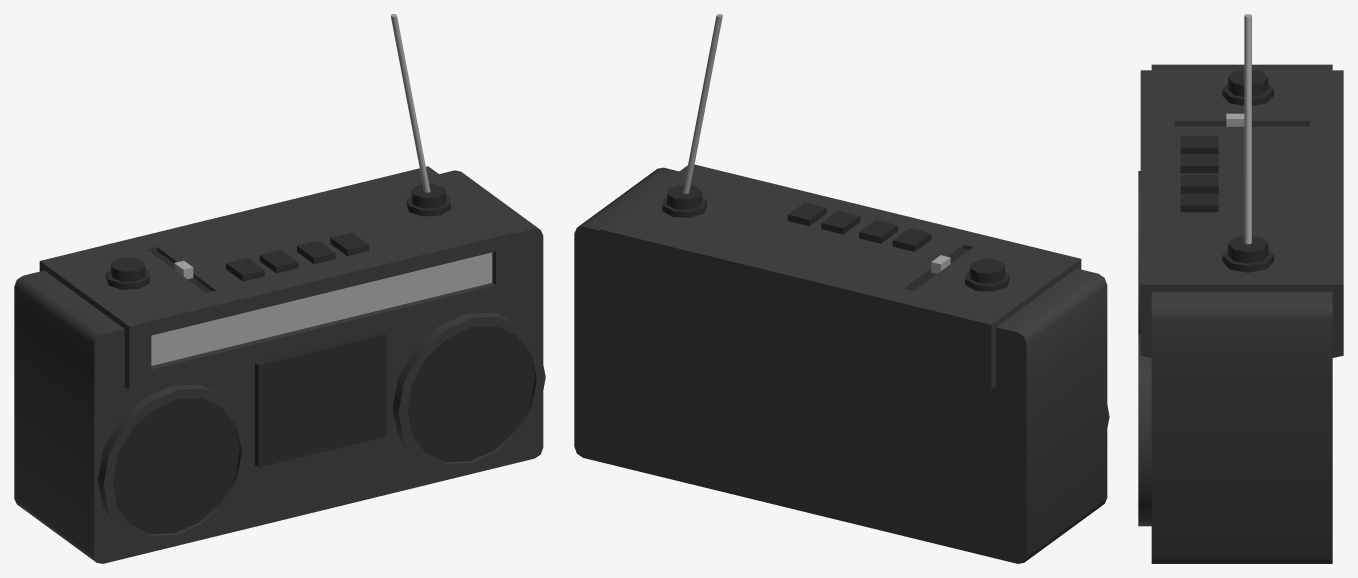
File: Radio_01.fbx
3 renders of one model, left to right at view 1: azimuth 30°, elevation 25°; view 2: azimuth 150°, elevation 25°; view 3: azimuth 270°, elevation 25°, orthographic. The views are drawn at different scales.
Visible parts, largest first — view 1: Radio_01; view 2: Radio_01; view 3: Radio_01.
Part boxes in pixels (x1,y1,x2,y2): Radio_01: (14, 14, 545, 563); Radio_01: (574, 14, 1109, 563); Radio_01: (1138, 14, 1343, 563).
Size of the model in its own units: 0.5856 by 0.5432 by 0.2048.
